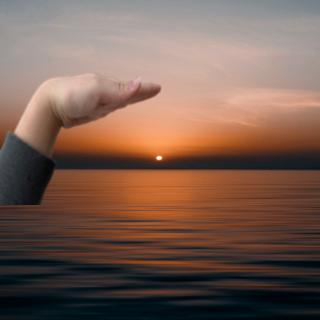Wait: (15, 63, 168, 141)
